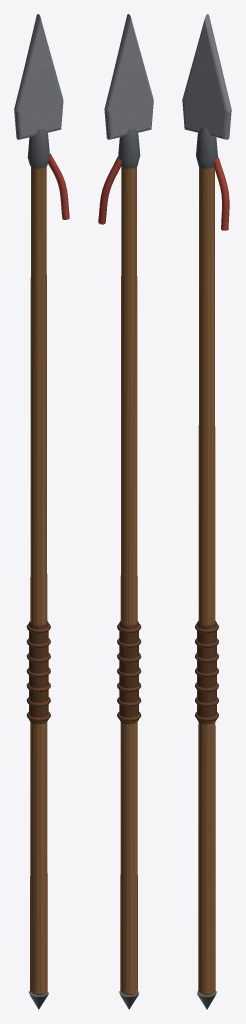
The model's file is spear.glb.
The picture shows the model from 3 angles, left to right: view 1: azimuth 30°, elevation 25°; view 2: azimuth 210°, elevation 25°; view 3: azimuth 330°, elevation 25°; orthographic projection.
Parts seen in each view (by area): view 1: spear, grip; view 2: spear, grip; view 3: spear, grip.
Part boxes in pixels (<box>): spear: <box>14,14,69,1009</box>; grip: <box>26,621,50,724</box>; spear: <box>98,14,153,1009</box>; grip: <box>117,621,141,724</box>; spear: <box>182,14,231,1009</box>; grip: <box>195,621,218,724</box>.
Bounding box in the file's own units: 0.1203 × 2.32 × 0.054.
Materials: 5 (5 with a texture image).
